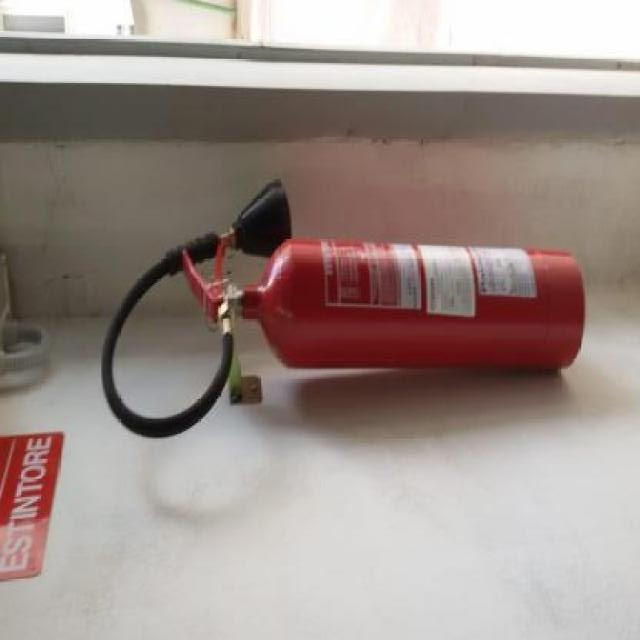fire extinguisher: (101, 178, 585, 439)
